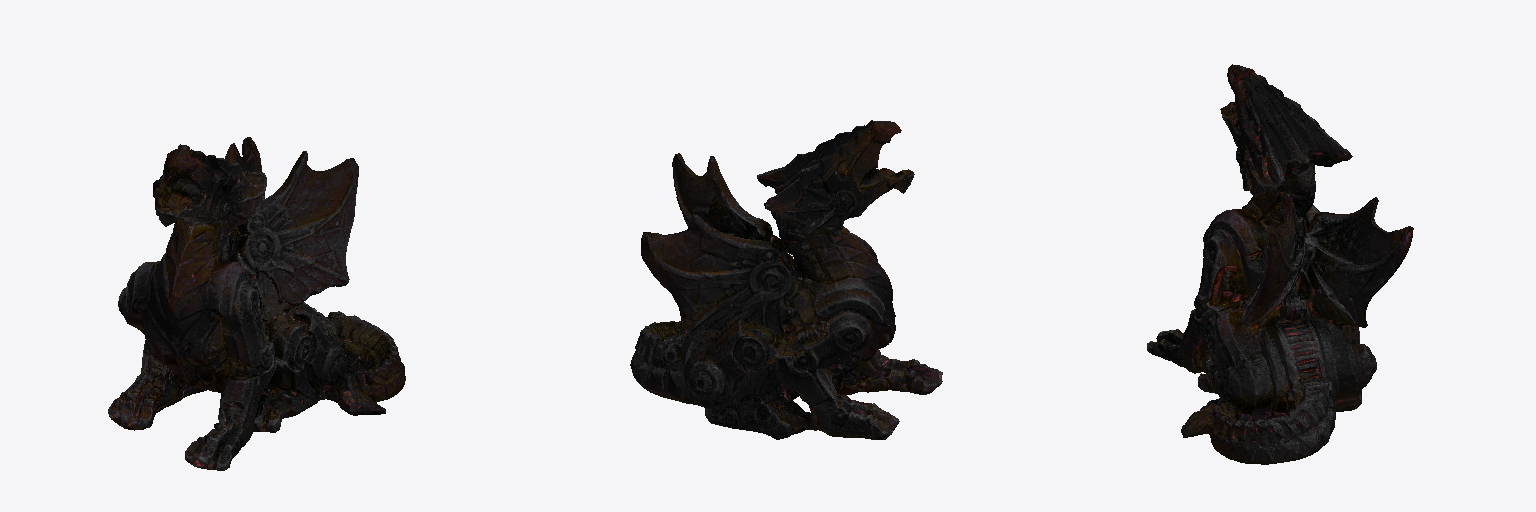
3 views of the same model, side by side, from view 1: azimuth 30°, elevation 25°; view 2: azimuth 150°, elevation 25°; view 3: azimuth 270°, elevation 25° (orthographic).
Parts seen in each view (by area): view 1: fg_spkMgDragon; view 2: fg_spkMgDragon; view 3: fg_spkMgDragon.
Boxes of the visible parts, x1,y1,x2,y2 form: fg_spkMgDragon: [108, 137, 405, 470]; fg_spkMgDragon: [630, 120, 942, 439]; fg_spkMgDragon: [1147, 64, 1413, 464].
Bounding box in the file's own units: 0.0777 × 0.0796 × 0.0665.
1 materials, 1 textured.